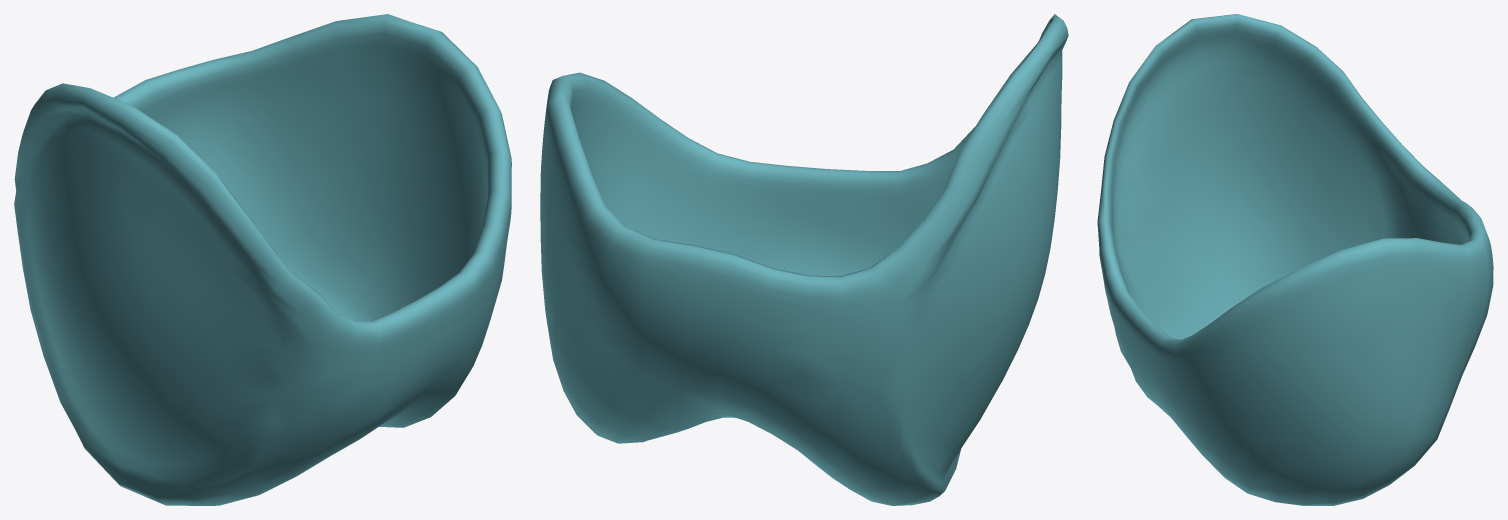
The model's file is TL5_Enamel_Prongs.001 2.glb.
3 views of the same model, side by side, from view 1: azimuth 30°, elevation 25°; view 2: azimuth 150°, elevation 25°; view 3: azimuth 270°, elevation 25° (orthographic). The views are drawn at different scales.
Visible parts, largest first — view 1: TL5_Enamel_Prongs.001; view 2: TL5_Enamel_Prongs.001; view 3: TL5_Enamel_Prongs.001.
Boxes of the visible parts, x1,y1,x2,y2 form: TL5_Enamel_Prongs.001: (14, 14, 511, 505); TL5_Enamel_Prongs.001: (540, 14, 1068, 505); TL5_Enamel_Prongs.001: (1097, 14, 1493, 505).
Size of the model in its own units: 0.8732 by 0.8482 by 0.8218.
